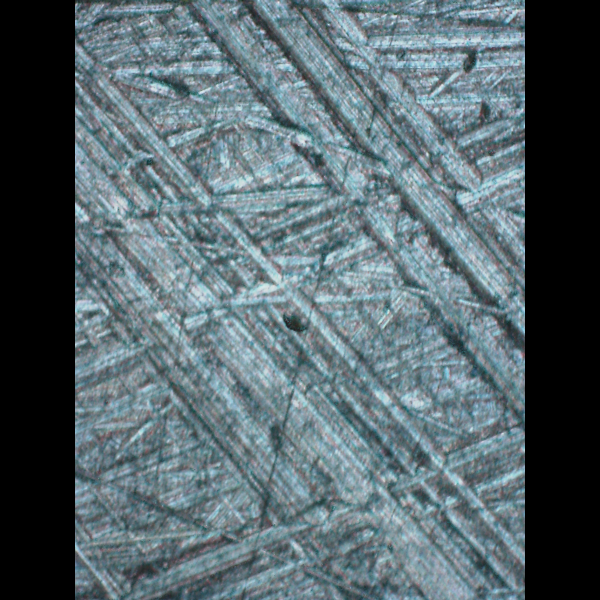d: (75, 0, 520, 587)
